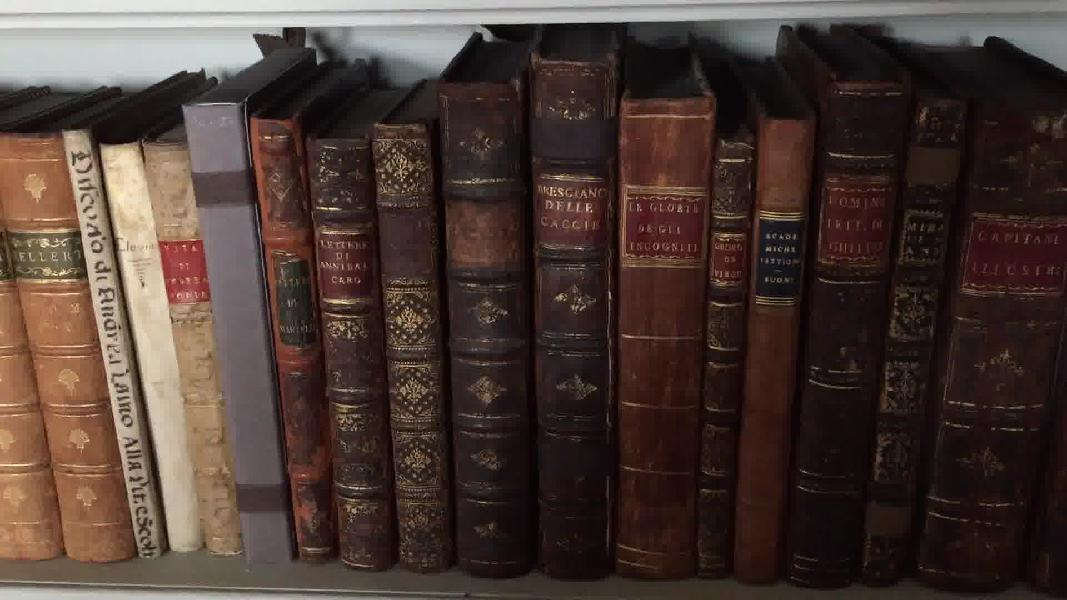Aa6-24: (56, 125, 183, 563)
Aa6-25: (136, 132, 261, 565), (83, 140, 205, 559)
Aa6-27: (177, 94, 308, 569)
Aa6-28: (236, 90, 354, 569)
Aa6-29: (293, 119, 400, 577)
Aa6-30: (355, 101, 470, 584)
Aa6-31: (443, 63, 542, 589)
Aa6-32: (528, 43, 623, 590)
Aa6-33: (613, 84, 719, 600)
Aa6-34: (711, 119, 754, 588)
Aa6-35: (721, 88, 819, 585)
Aa6-36: (792, 48, 899, 600)
Aa6-37: (862, 57, 970, 600)
Aa6-38: (909, 79, 1064, 600)
